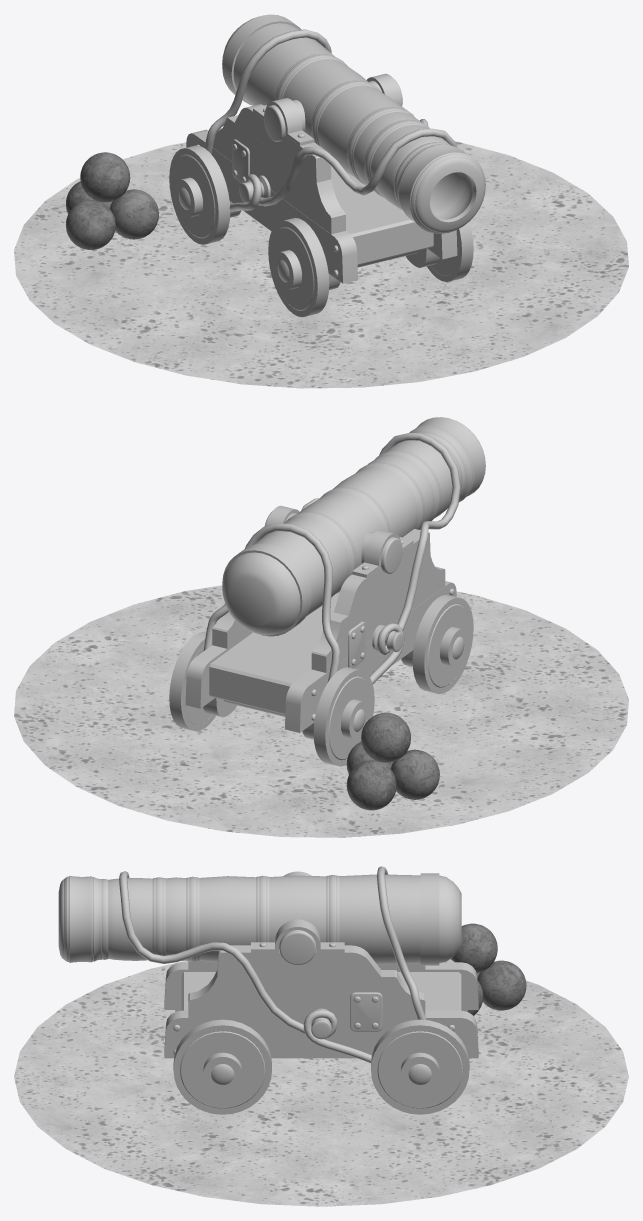
File: cannon.obj
The picture shows the model from 3 angles, top to bottom: view 1: azimuth 30°, elevation 25°; view 2: azimuth 150°, elevation 25°; view 3: azimuth 270°, elevation 25°; orthographic projection.
Visible parts, largest first — view 1: floor, cannon, cannon_rope; view 2: floor, cannon, cannon_rope; view 3: floor, cannon, cannon_rope.
Part boxes in pixels (x1,y1,x2,y2): floor: (14, 141, 628, 388); cannon: (169, 14, 485, 317); cannon_rope: (204, 29, 457, 211); floor: (14, 585, 628, 837); cannon: (169, 417, 485, 766); cannon_rope: (203, 433, 460, 683); floor: (14, 923, 628, 1206); cannon: (58, 871, 478, 1114); cannon_rope: (119, 866, 426, 1062).
Size of the model in its own units: 15 by 5.51 by 15.
